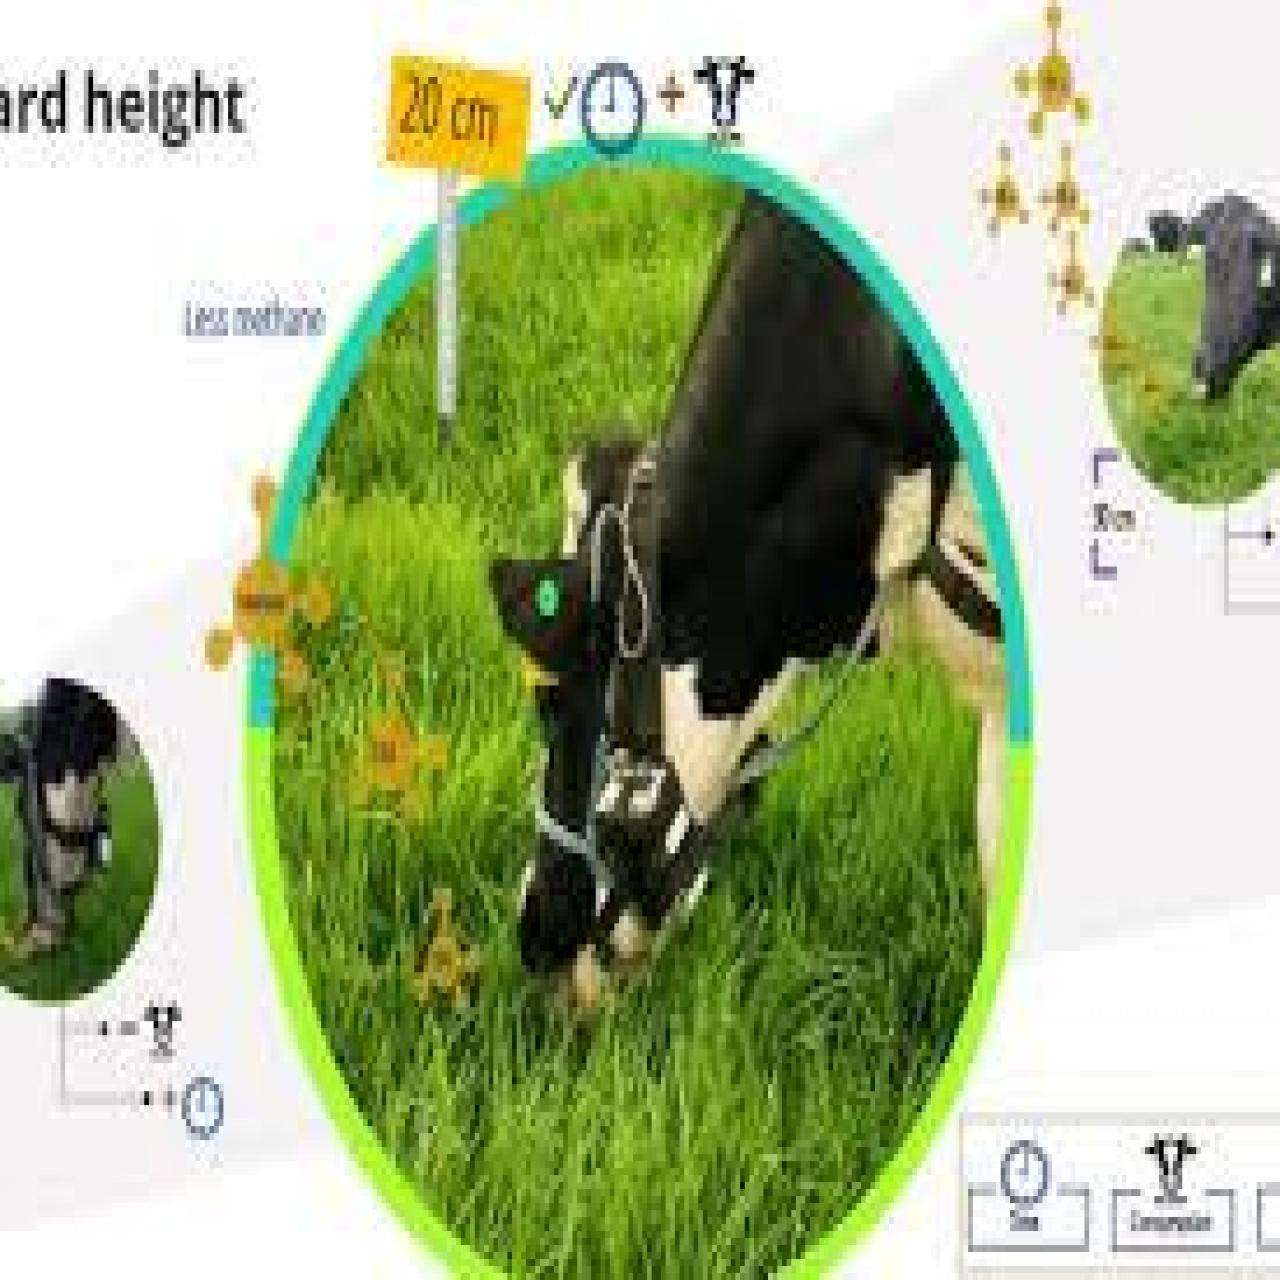cow: (491, 192, 956, 1017), (0, 679, 121, 945), (1149, 192, 1280, 402)
